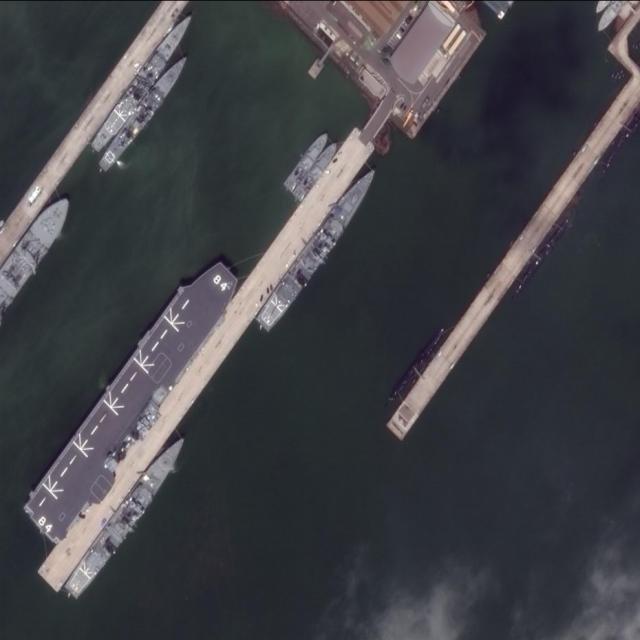Destroyer: (14, 254, 250, 546), (59, 431, 194, 601), (251, 162, 383, 334), (87, 8, 197, 154), (95, 51, 194, 175)
Dock: (36, 105, 395, 593)
Other Warship: (283, 130, 332, 192), (293, 138, 341, 200)
Submarine: (504, 215, 571, 304), (384, 325, 447, 403)
